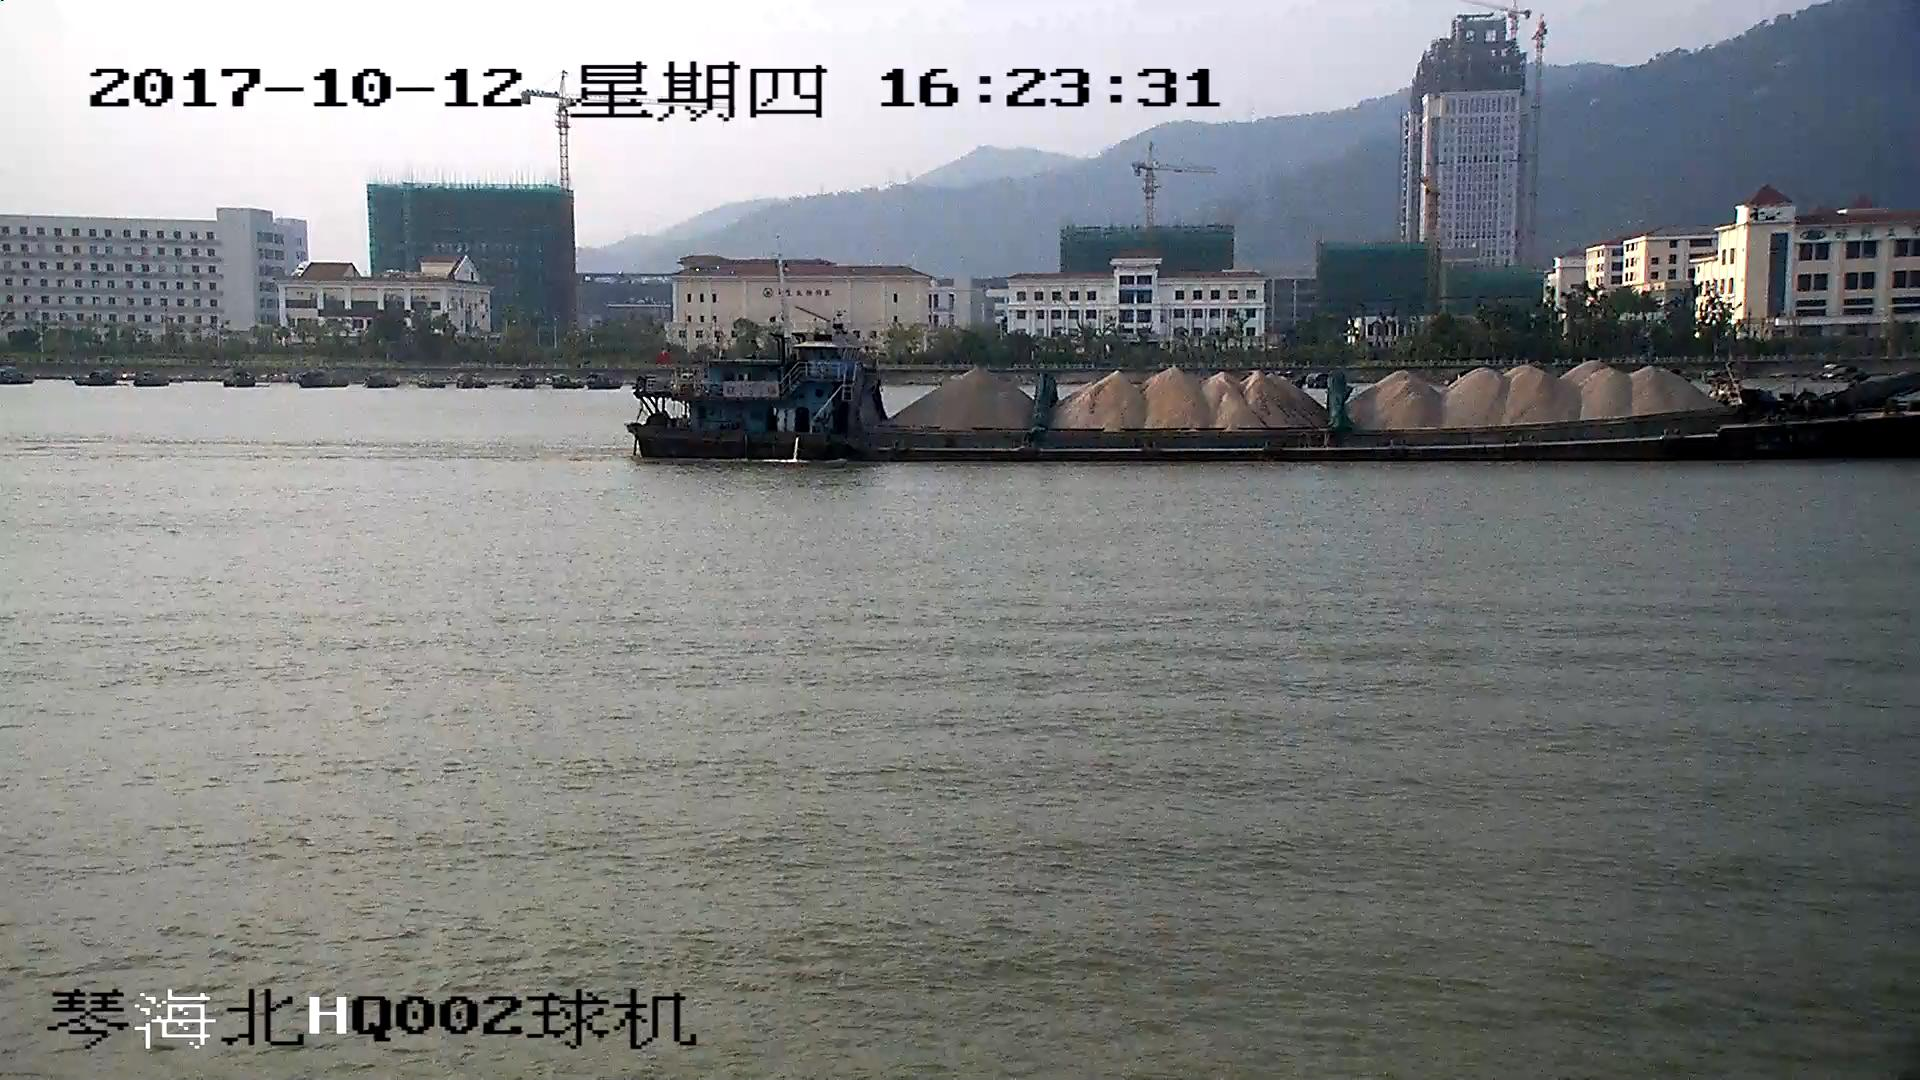ore carrier: (627, 335, 1920, 458)
